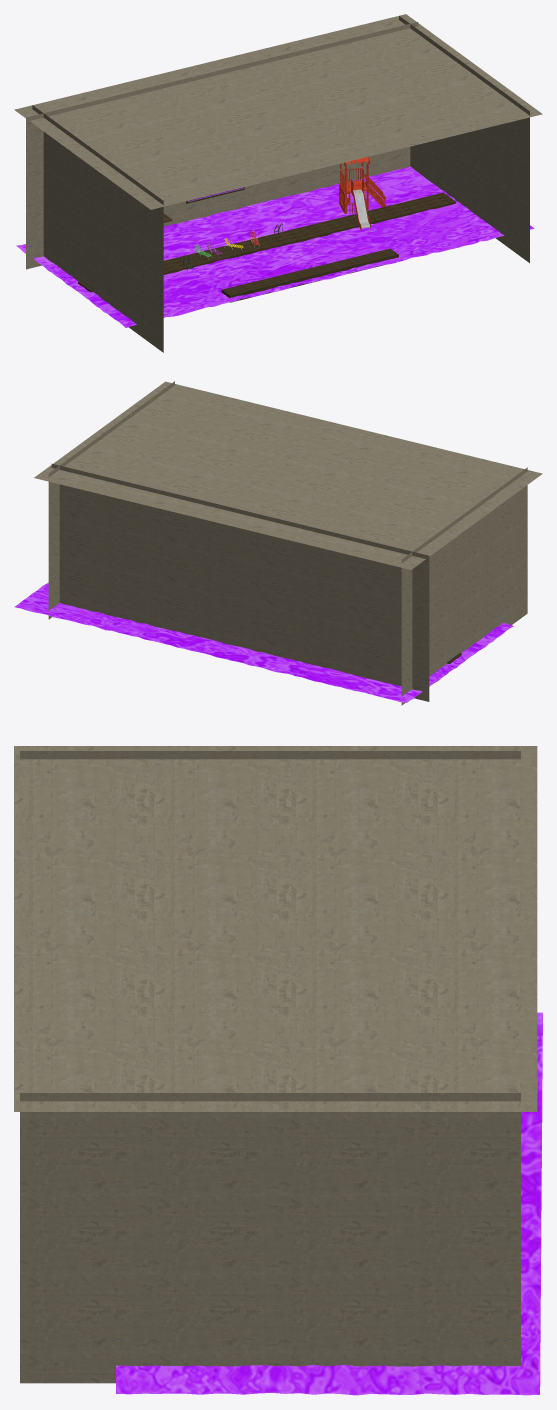
Rendered from TheWokFactory.glb.
The picture shows the model from 3 angles, top to bottom: view 1: azimuth 30°, elevation 25°; view 2: azimuth 150°, elevation 25°; view 3: azimuth 270°, elevation 25°; orthographic projection. The views are drawn at different scales.
Parts seen in each view (by area): view 1: Wall, PlaneShape_0.001, FloorBack, Floor, Object_3.003; view 2: Wall, PlaneShape_0.001; view 3: Wall, PlaneShape_0.001.
Part boxes in pixels (bbox=[...]): Wall: bbox=[14, 14, 542, 352]; PlaneShape_0.001: bbox=[16, 166, 534, 327]; FloorBack: bbox=[78, 192, 456, 292]; Floor: bbox=[221, 248, 398, 302]; Object_3.003: bbox=[339, 156, 386, 230]; Wall: bbox=[34, 381, 542, 705]; PlaneShape_0.001: bbox=[14, 582, 513, 702]; Wall: bbox=[14, 746, 537, 1383]; PlaneShape_0.001: bbox=[116, 1012, 542, 1395].
Bounding box in the file's own units: 94.76 × 33.54 × 54.68.
Materials: 24 (24 with a texture image).
